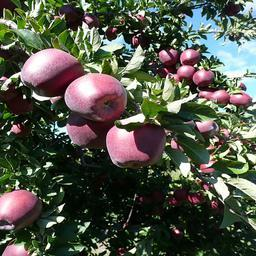apple: (21, 49, 83, 98), (65, 72, 127, 119), (107, 116, 165, 166), (1, 189, 42, 230), (195, 118, 219, 137), (193, 68, 214, 85), (159, 47, 179, 64), (209, 89, 231, 104), (230, 91, 252, 106), (180, 49, 200, 65), (177, 64, 195, 79), (158, 63, 176, 77)
